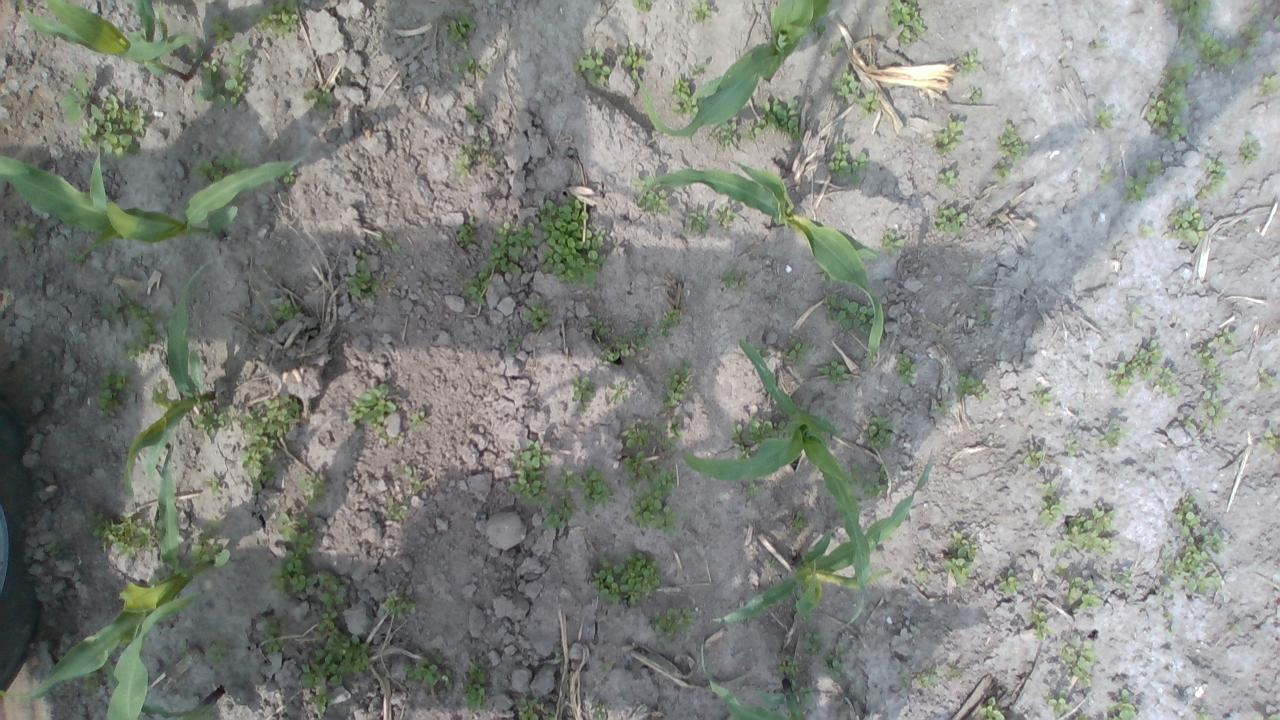Maize: (0, 442, 218, 702), (688, 338, 874, 631), (639, 160, 885, 364), (709, 453, 931, 636), (0, 138, 311, 264), (635, 0, 830, 140), (123, 258, 217, 505), (96, 591, 225, 720), (11, 0, 199, 83), (696, 632, 806, 720)
Weeds: (227, 397, 302, 494), (534, 195, 608, 284), (300, 629, 370, 716), (1165, 0, 1251, 67), (1155, 526, 1225, 598), (623, 450, 682, 534), (75, 92, 146, 158), (1104, 338, 1182, 398), (589, 550, 662, 605), (82, 509, 156, 557), (481, 221, 536, 279), (504, 438, 550, 505), (539, 464, 583, 530), (1064, 507, 1120, 558), (1146, 82, 1191, 144), (116, 304, 164, 362), (742, 99, 801, 140), (1057, 631, 1098, 687), (823, 292, 875, 336), (941, 530, 980, 588), (345, 383, 396, 427), (268, 550, 314, 598), (192, 148, 250, 186), (825, 138, 871, 184), (94, 366, 131, 422), (600, 326, 654, 364), (884, 0, 928, 45), (575, 464, 616, 512), (403, 648, 450, 689), (1190, 340, 1228, 389), (224, 42, 253, 106), (345, 248, 380, 301), (1164, 205, 1208, 246), (254, 0, 300, 38), (1123, 160, 1164, 202), (188, 530, 232, 568), (452, 136, 490, 180), (58, 72, 90, 124), (650, 608, 696, 644), (1034, 480, 1070, 525), (630, 175, 670, 215), (194, 60, 227, 108), (460, 659, 490, 711), (1193, 390, 1234, 428), (994, 121, 1030, 164), (849, 459, 888, 498), (661, 358, 691, 408), (572, 48, 610, 86), (1196, 156, 1228, 200), (277, 512, 314, 550), (930, 118, 966, 156), (668, 76, 699, 120), (446, 10, 478, 52), (1172, 494, 1202, 538), (1064, 576, 1102, 610), (193, 402, 226, 440), (258, 614, 290, 652), (315, 570, 350, 604), (862, 416, 896, 450), (744, 417, 788, 443), (618, 417, 652, 450), (466, 266, 492, 308), (1095, 418, 1128, 451), (10, 218, 42, 252), (298, 472, 329, 507), (931, 205, 967, 235), (954, 371, 989, 401), (822, 642, 848, 682), (449, 56, 492, 80), (1105, 689, 1138, 720), (382, 586, 416, 616), (520, 300, 554, 330), (1028, 602, 1052, 644), (816, 356, 852, 384), (709, 119, 740, 151), (98, 293, 128, 326), (1042, 688, 1074, 718), (1210, 326, 1242, 356), (830, 66, 859, 99), (301, 84, 335, 112), (621, 44, 647, 80), (209, 15, 239, 45), (894, 348, 918, 384), (1098, 568, 1135, 591), (717, 268, 748, 295), (1160, 60, 1197, 82), (654, 309, 680, 340), (1048, 540, 1070, 576), (995, 569, 1022, 598), (203, 636, 230, 664), (402, 465, 426, 496), (659, 421, 683, 452), (1238, 134, 1261, 166), (855, 91, 881, 119), (1254, 364, 1280, 391), (782, 340, 811, 364), (850, 240, 879, 264), (979, 695, 1006, 720), (686, 209, 710, 237), (570, 375, 594, 403), (916, 666, 946, 688), (882, 229, 904, 259), (956, 48, 979, 76), (316, 603, 338, 632), (454, 220, 478, 246), (1026, 383, 1052, 407), (714, 202, 738, 228), (688, 0, 714, 24), (588, 316, 611, 343), (273, 300, 301, 322), (374, 232, 403, 253), (149, 378, 170, 406), (1238, 22, 1262, 46), (606, 380, 630, 404), (1257, 72, 1280, 97), (518, 697, 542, 720), (776, 654, 800, 677), (790, 510, 811, 536), (1022, 444, 1044, 468), (41, 536, 70, 554), (202, 476, 225, 498), (1093, 107, 1115, 130), (81, 670, 102, 693), (463, 100, 483, 124), (1260, 429, 1280, 453), (992, 158, 1012, 182), (911, 560, 931, 583), (802, 632, 821, 656), (936, 170, 958, 190), (506, 334, 525, 356), (792, 682, 811, 704), (378, 428, 405, 443), (974, 304, 994, 324), (1096, 164, 1116, 184), (273, 166, 297, 182), (1064, 433, 1080, 457), (388, 502, 409, 520), (64, 248, 86, 265), (589, 701, 608, 720), (1126, 304, 1142, 326), (750, 342, 770, 359), (734, 444, 756, 459), (409, 411, 426, 430), (934, 400, 954, 415), (744, 481, 761, 498), (1136, 223, 1154, 239), (1163, 610, 1175, 634), (1194, 707, 1214, 720), (898, 671, 912, 689), (1086, 39, 1107, 51), (1176, 413, 1192, 428), (810, 20, 826, 35), (966, 88, 981, 104), (830, 40, 844, 57), (178, 646, 194, 660), (1252, 712, 1280, 720), (950, 662, 964, 678), (598, 660, 614, 674), (692, 60, 706, 76), (629, 0, 653, 9), (206, 516, 222, 528), (729, 424, 743, 437), (1226, 622, 1244, 632), (264, 318, 276, 332), (543, 709, 558, 720), (1249, 4, 1262, 16), (822, 270, 833, 283), (487, 156, 498, 168), (1073, 712, 1088, 720), (764, 556, 776, 566), (554, 646, 562, 660), (454, 271, 464, 279), (1275, 14, 1280, 22)
